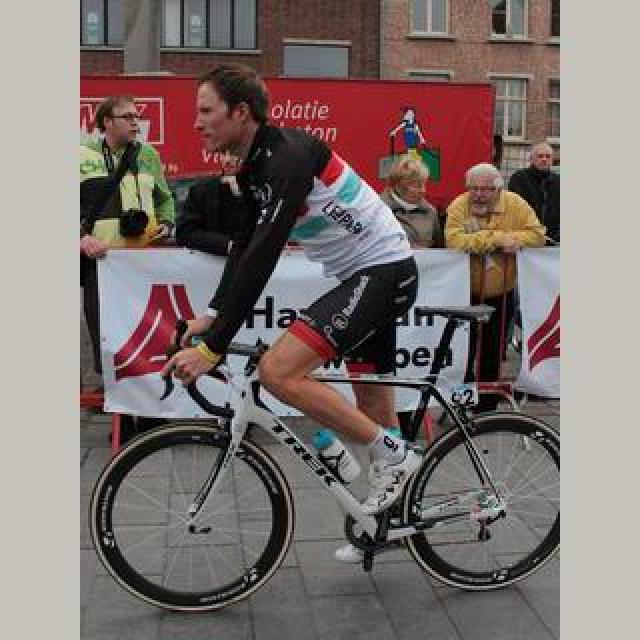MC-Bike: (158, 56, 436, 618), (444, 160, 552, 380), (444, 162, 550, 252), (380, 154, 442, 250), (508, 142, 558, 240)
Person: (98, 304, 558, 620)
